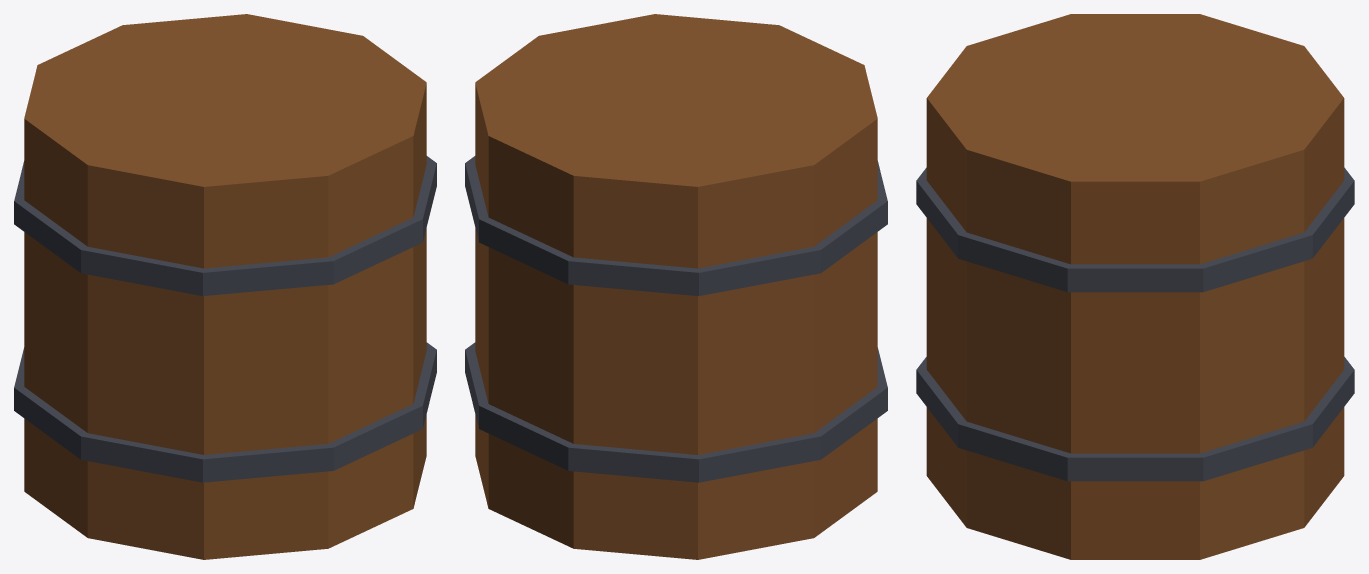
Rendered from quench_barrel.glb.
3 renders of one model, left to right at view 1: azimuth 30°, elevation 25°; view 2: azimuth 150°, elevation 25°; view 3: azimuth 270°, elevation 25°, orthographic.
Parts seen in each view (by area): view 1: quench_barrel; view 2: quench_barrel; view 3: quench_barrel.
Part boxes in pixels (left/top/right/bottom): quench_barrel: left=14, top=14, right=436, bottom=559; quench_barrel: left=465, top=14, right=887, bottom=559; quench_barrel: left=916, top=14, right=1354, bottom=559.
Size of the model in its own units: 0.7989 by 0.8 by 0.84.
